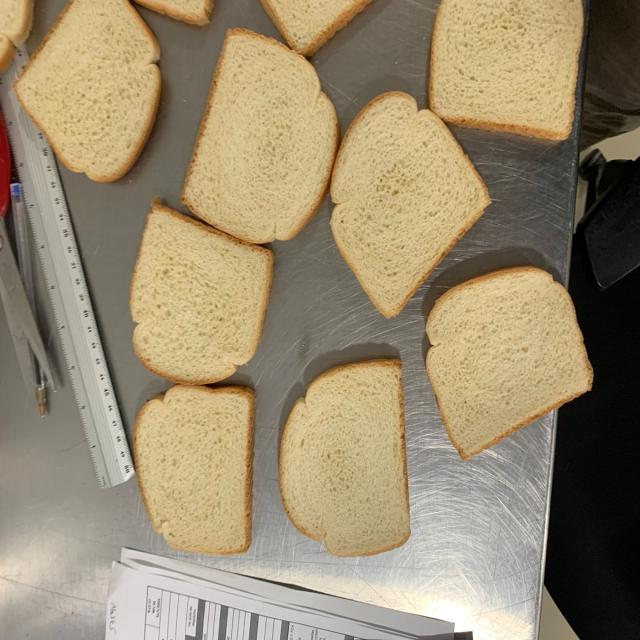pan: (331, 91, 491, 319), (182, 29, 338, 245), (426, 266, 594, 459), (15, 0, 163, 183), (278, 358, 409, 557), (132, 203, 273, 386), (134, 383, 257, 555)
